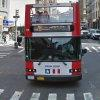buses: (24, 2, 84, 82)
